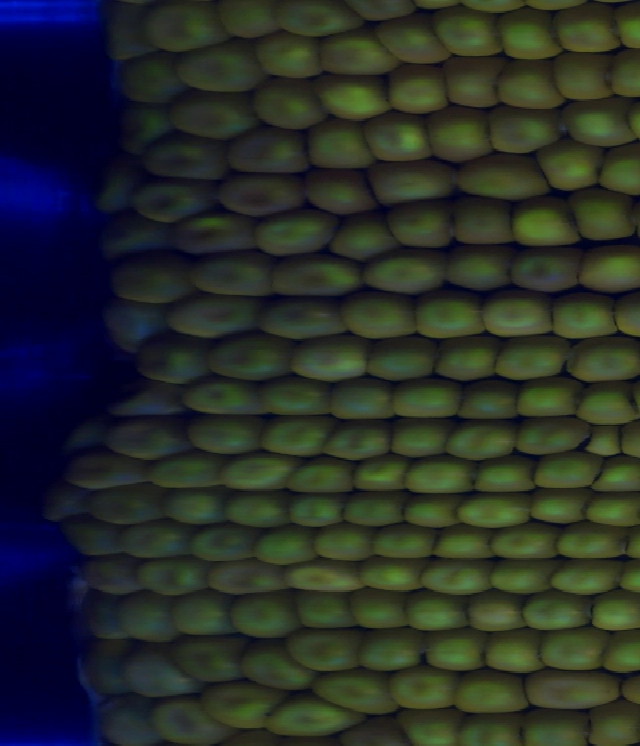fluorescent: (155, 292, 258, 343), (371, 375, 466, 427), (89, 260, 195, 302), (253, 292, 342, 340), (164, 95, 257, 140), (342, 289, 424, 340), (251, 211, 338, 258), (170, 217, 267, 259), (144, 136, 225, 184), (368, 11, 439, 65), (522, 672, 619, 711), (497, 334, 571, 385), (218, 176, 310, 216), (508, 242, 577, 294), (253, 81, 326, 130), (193, 559, 286, 597), (492, 105, 561, 156), (321, 69, 386, 123), (551, 294, 619, 345), (505, 197, 574, 247), (179, 53, 263, 94), (90, 488, 174, 529), (410, 294, 484, 340), (293, 343, 374, 385), (448, 200, 516, 250), (324, 378, 399, 423), (300, 118, 366, 169), (137, 176, 218, 217), (360, 249, 442, 289), (103, 420, 189, 458), (483, 294, 551, 342), (455, 159, 548, 194), (497, 10, 558, 63), (221, 134, 305, 172), (554, 4, 619, 53), (138, 339, 208, 384), (90, 216, 168, 256), (116, 656, 179, 705), (184, 418, 261, 458), (512, 705, 587, 746), (541, 142, 599, 195), (58, 455, 148, 489), (202, 689, 284, 726), (448, 56, 500, 114), (574, 195, 634, 245), (129, 560, 203, 600), (366, 169, 455, 202), (161, 481, 226, 526), (429, 10, 497, 53), (538, 631, 609, 672), (155, 7, 215, 55), (561, 105, 631, 146), (424, 114, 492, 156), (268, 265, 363, 295), (325, 223, 396, 263), (212, 343, 293, 378), (483, 559, 550, 601), (148, 455, 224, 492), (573, 340, 635, 384), (125, 597, 177, 649), (547, 559, 618, 597), (505, 62, 560, 111), (424, 558, 493, 597), (455, 492, 534, 526), (386, 69, 447, 113), (447, 250, 508, 294), (573, 384, 635, 427), (119, 527, 195, 562), (174, 642, 237, 684), (195, 258, 268, 294), (403, 459, 476, 495), (228, 489, 292, 530), (313, 681, 395, 713), (261, 36, 318, 82), (93, 301, 155, 343), (100, 11, 153, 60), (357, 636, 429, 672), (434, 346, 497, 387), (463, 597, 528, 636), (310, 169, 366, 214), (460, 708, 526, 746), (83, 159, 131, 211), (451, 384, 515, 423), (260, 417, 324, 456), (283, 565, 366, 595), (195, 527, 266, 562), (295, 636, 364, 672), (363, 120, 425, 160), (268, 705, 348, 736), (577, 252, 640, 291), (563, 55, 612, 105), (358, 560, 424, 597), (237, 595, 292, 639), (393, 672, 455, 711), (277, 4, 357, 34), (224, 453, 287, 491), (179, 598, 237, 639), (529, 455, 595, 491), (389, 210, 448, 250), (183, 384, 254, 417), (126, 53, 179, 97), (109, 385, 184, 416), (254, 384, 324, 417), (283, 491, 347, 527), (486, 634, 545, 673), (73, 559, 129, 600), (213, 1, 273, 39), (399, 601, 463, 636), (426, 636, 486, 673), (367, 346, 434, 379), (455, 678, 522, 711), (447, 427, 516, 459), (110, 105, 160, 149), (386, 423, 447, 459), (319, 427, 387, 459), (295, 598, 355, 634), (319, 43, 396, 71), (489, 530, 566, 558), (151, 707, 212, 742), (370, 527, 429, 563), (355, 589, 402, 634), (80, 602, 125, 649), (529, 598, 593, 631), (429, 527, 487, 563), (286, 463, 353, 494), (512, 382, 573, 416), (392, 716, 463, 745), (590, 705, 640, 746), (516, 421, 576, 455), (237, 656, 309, 684), (583, 492, 640, 527), (313, 527, 370, 562), (353, 456, 405, 494), (600, 146, 640, 195), (399, 491, 455, 526), (528, 491, 584, 526), (566, 527, 629, 558), (593, 589, 640, 630), (347, 495, 406, 527), (254, 530, 313, 562), (480, 455, 529, 491), (602, 630, 640, 675), (100, 710, 157, 740), (84, 652, 116, 705), (68, 518, 116, 550), (595, 458, 640, 491), (57, 418, 97, 452), (351, 718, 397, 746), (576, 427, 612, 462), (47, 492, 86, 523)
